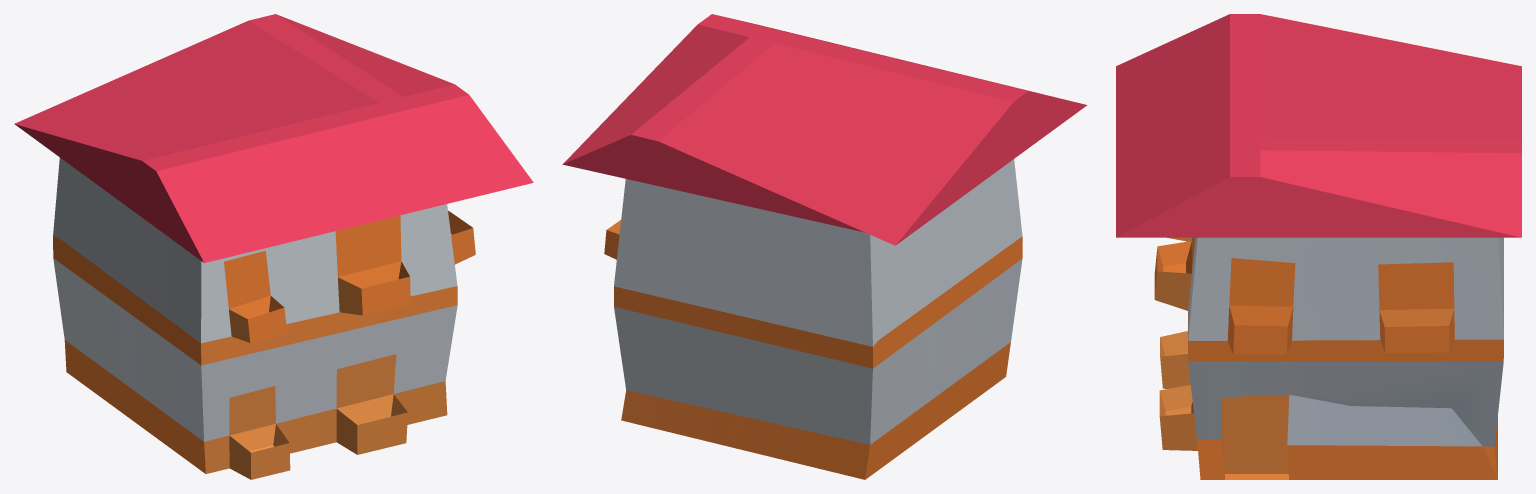
Rendered from casa_8_3.glb.
3 renders of one model, left to right at view 1: azimuth 30°, elevation 25°; view 2: azimuth 150°, elevation 25°; view 3: azimuth 270°, elevation 25°, orthographic. The views are drawn at different scales.
Visible parts, largest first — view 1: Cube; view 2: Cube; view 3: Cube.
Part boxes in pixels (x1,y1,x2,y2): Cube: (14,14,533,479); Cube: (562,14,1087,479); Cube: (1116,14,1521,479).
Size of what is drawn, in the model's own units: 25.66 by 22.48 by 25.66.
Materials: 1 (1 with a texture image).
